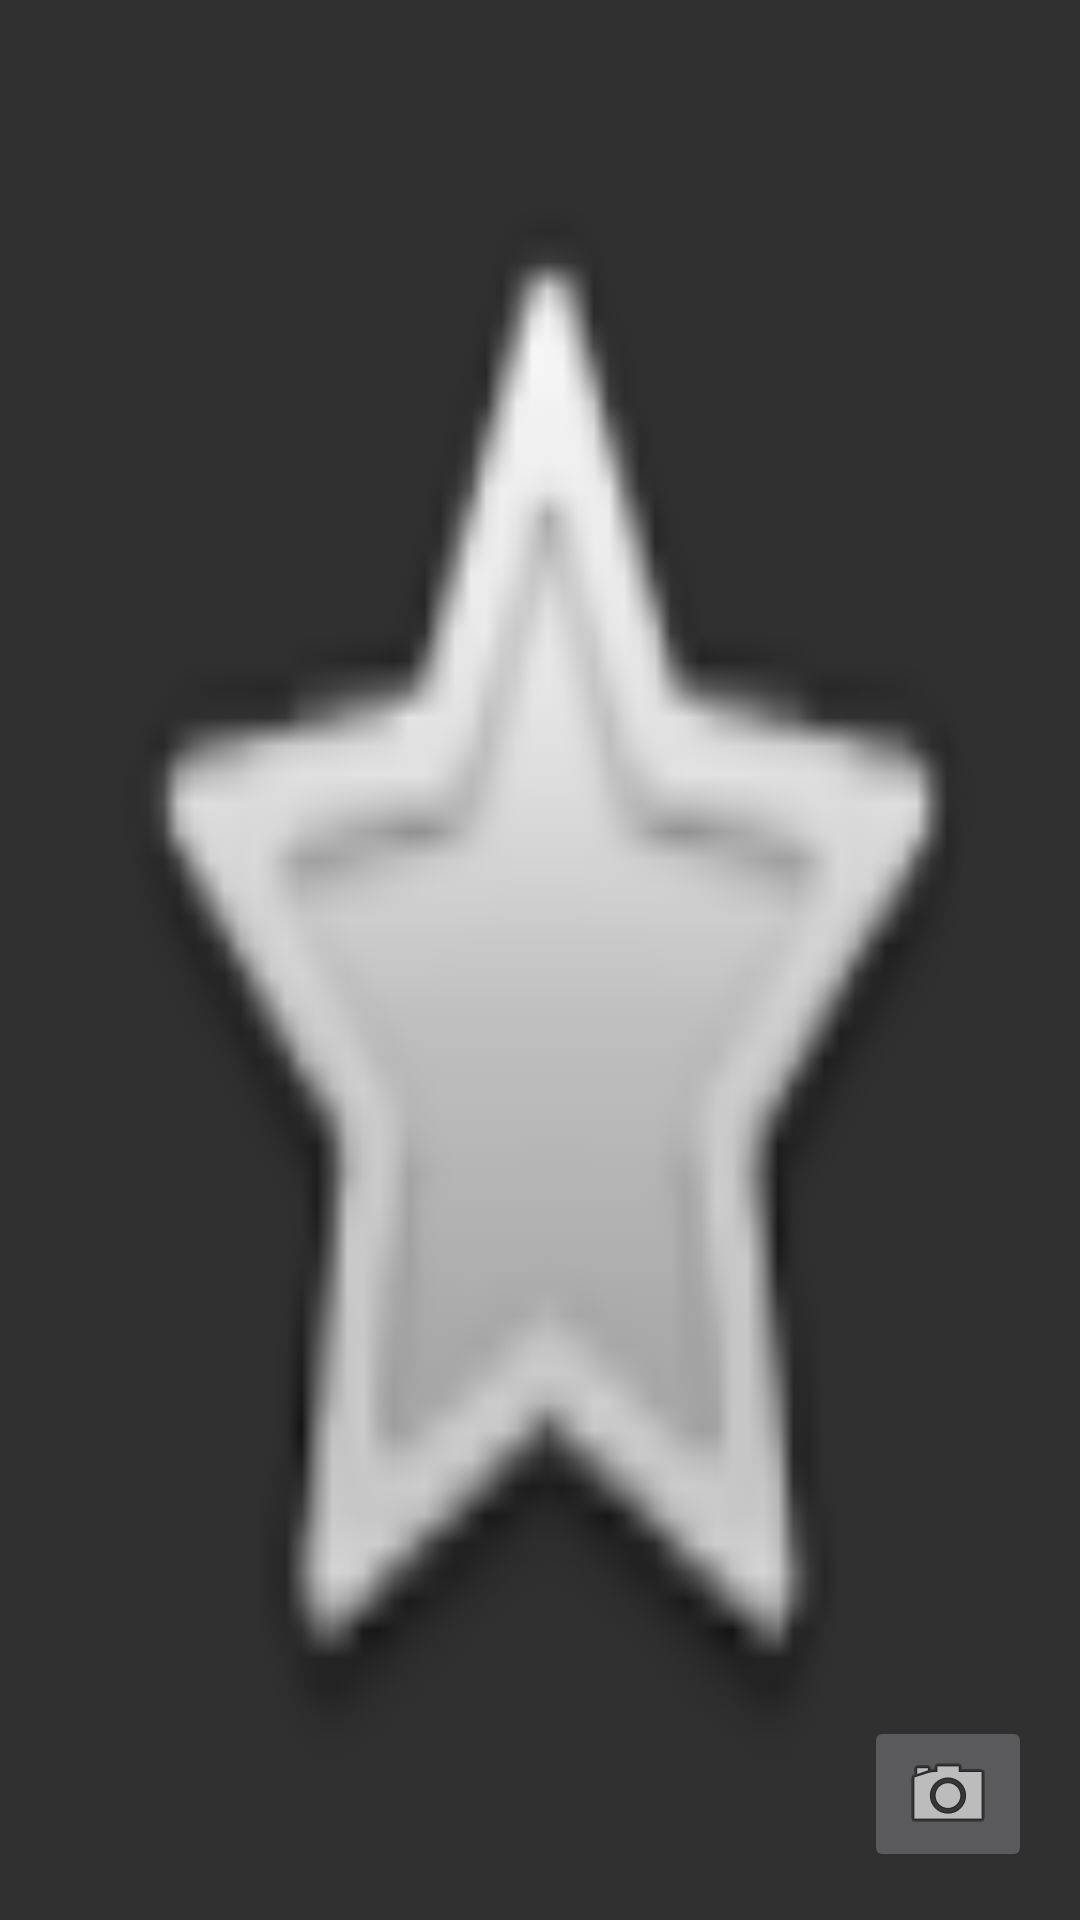

Named icons in this screenshot (1080x1920) and their bounding boxes, (x1, y1, x2, y2):
camera: (876, 1734, 1020, 1854)
